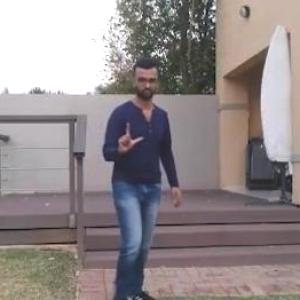land_hand: (111, 117, 149, 160)
